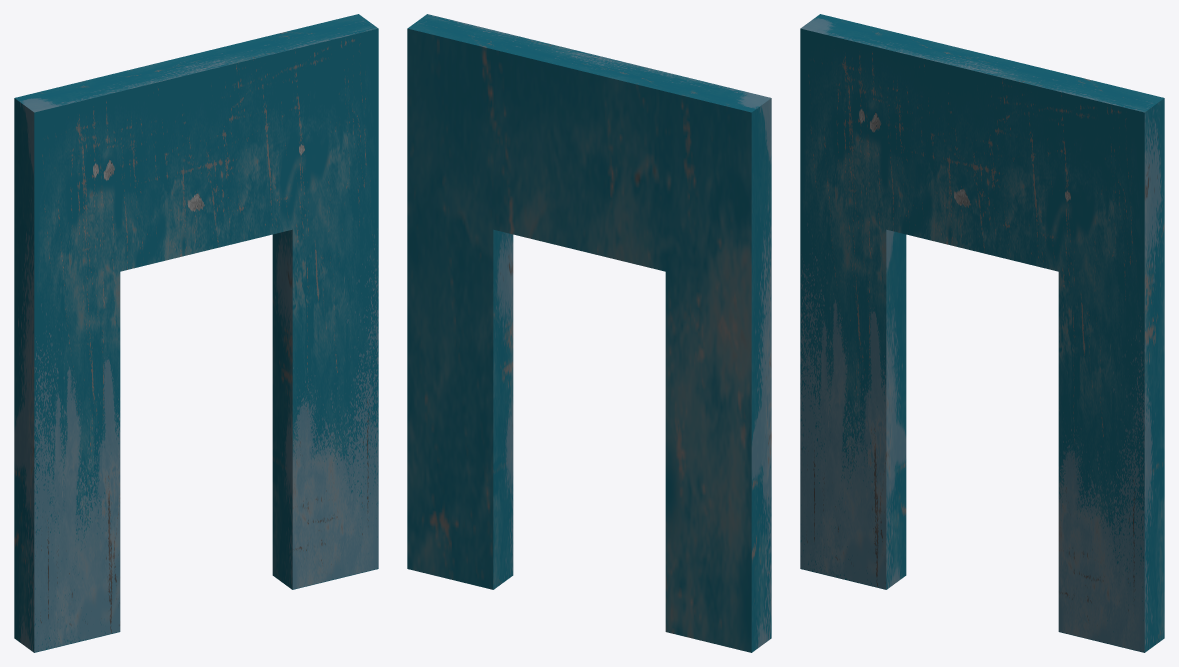
File: door_wall.fbx
3 renders of one model, left to right at view 1: azimuth 30°, elevation 25°; view 2: azimuth 150°, elevation 25°; view 3: azimuth 330°, elevation 25°, orthographic.
Visible parts, largest first — view 1: Cube.001; view 2: Cube.001; view 3: Cube.001.
Part boxes in pixels (x1,y1,x2,y2): Cube.001: (14, 14, 378, 652); Cube.001: (407, 14, 771, 652); Cube.001: (800, 14, 1164, 652).
Bounding box in the file's own units: 400 × 600 × 40.
1 material, 1 textured.
